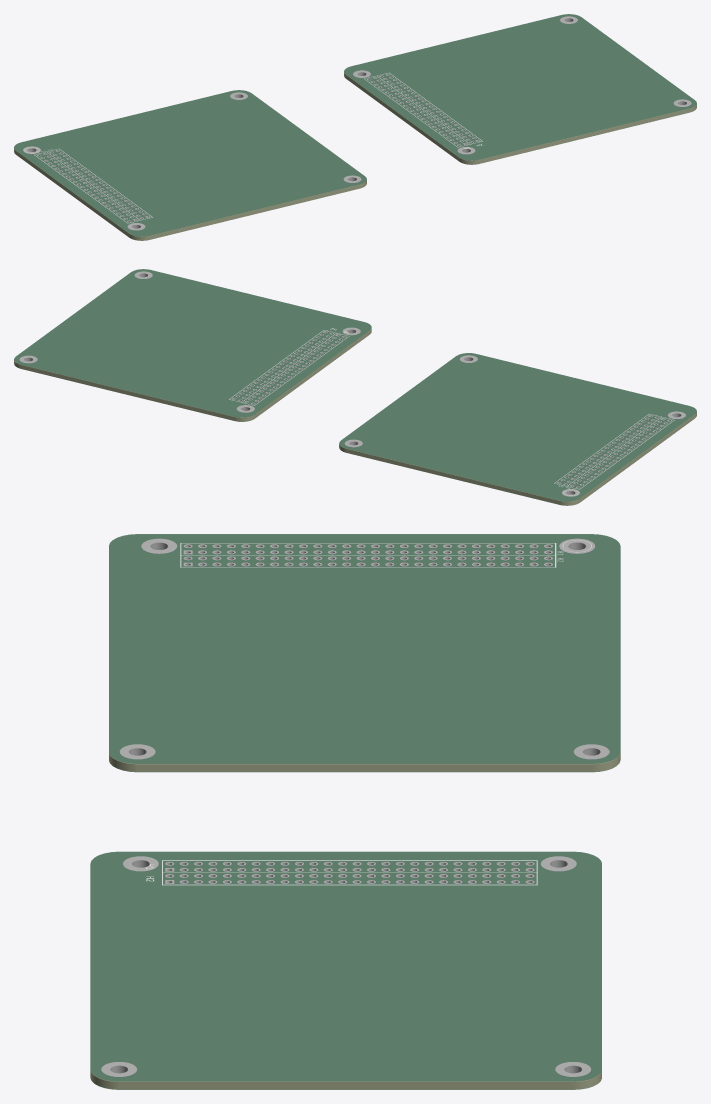
Rendered from board.glb.
The picture shows the model from 3 angles, top to bottom: view 1: azimuth 30°, elevation 25°; view 2: azimuth 150°, elevation 25°; view 3: azimuth 270°, elevation 25°; orthographic projection. The views are drawn at different scales.
Parts seen in each view (by area): view 1: =>[0:1:1:4], =>[0:1:1:6], =>[0:1:1:2], =>[0:1:1:3]; view 2: =>[0:1:1:4], =>[0:1:1:6], =>[0:1:1:2], =>[0:1:1:3]; view 3: =>[0:1:1:6], =>[0:1:1:4], =>[0:1:1:2], =>[0:1:1:3].
Boxes of the visible parts, x1,y1,x2,y2 form: =>[0:1:1:4]: (14,14,696,240); =>[0:1:1:6]: (14,15,696,240); =>[0:1:1:2]: (23,16,691,230); =>[0:1:1:3]: (24,72,482,223); =>[0:1:1:4]: (14,269,696,505); =>[0:1:1:6]: (14,270,696,505); =>[0:1:1:2]: (19,271,685,496); =>[0:1:1:3]: (229,328,674,495); =>[0:1:1:6]: (90,535,620,1089); =>[0:1:1:4]: (90,534,620,1089); =>[0:1:1:2]: (101,538,609,1076); =>[0:1:1:3]: (146,540,591,885).
Bounding box in the file's own units: 0.2283 × 0.00163 × 0.0934.
